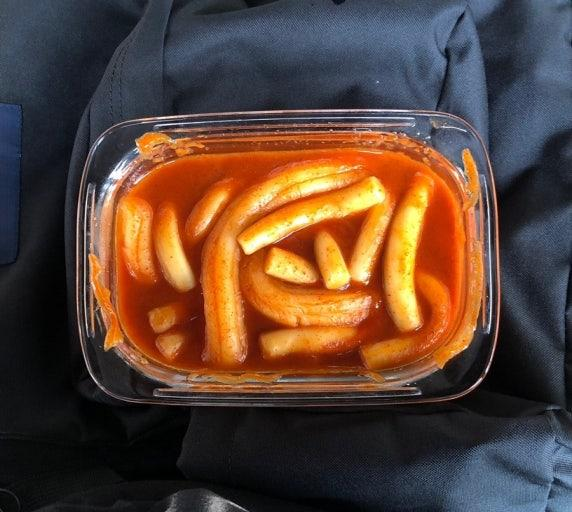Lunch Box: (75, 110, 498, 405)
